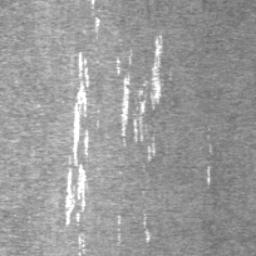White rust: (119, 34, 164, 146), (64, 51, 90, 225), (78, 231, 89, 256), (143, 210, 150, 242), (148, 136, 156, 162), (94, 15, 101, 40), (206, 164, 212, 186), (116, 55, 121, 76), (128, 48, 133, 64)
